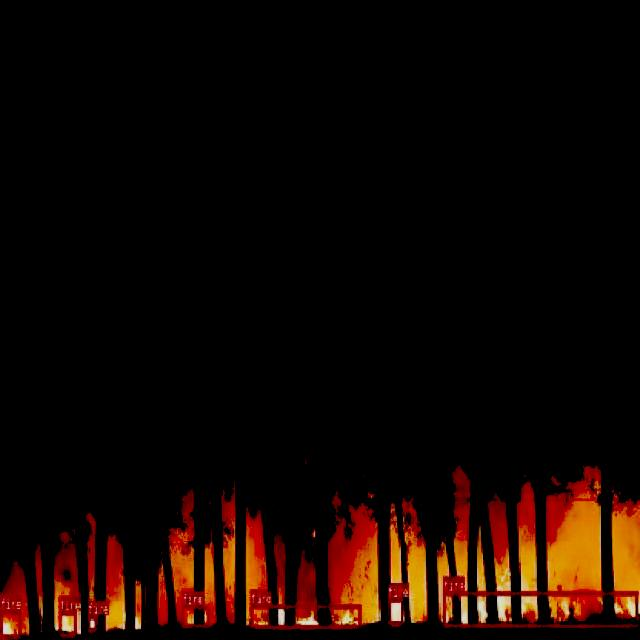fire: (442, 591, 638, 627), (250, 604, 361, 628), (182, 604, 210, 628), (0, 609, 20, 637), (59, 611, 76, 637), (387, 597, 402, 625), (87, 614, 98, 631)
